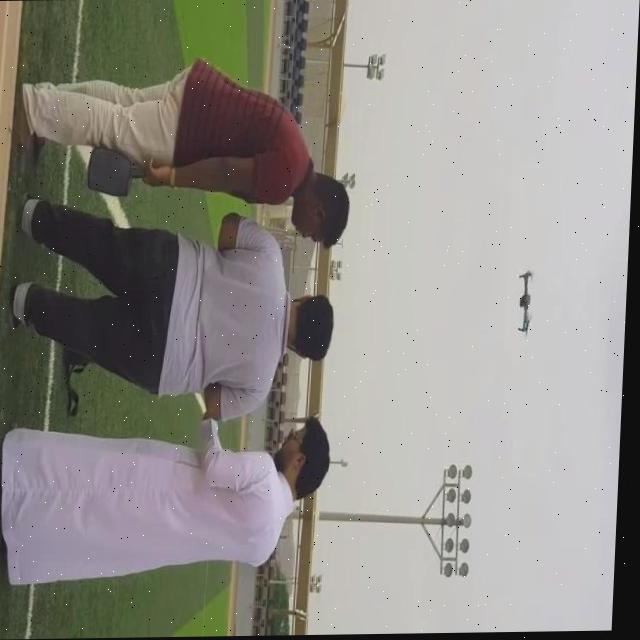drone: (519, 268, 541, 339)
